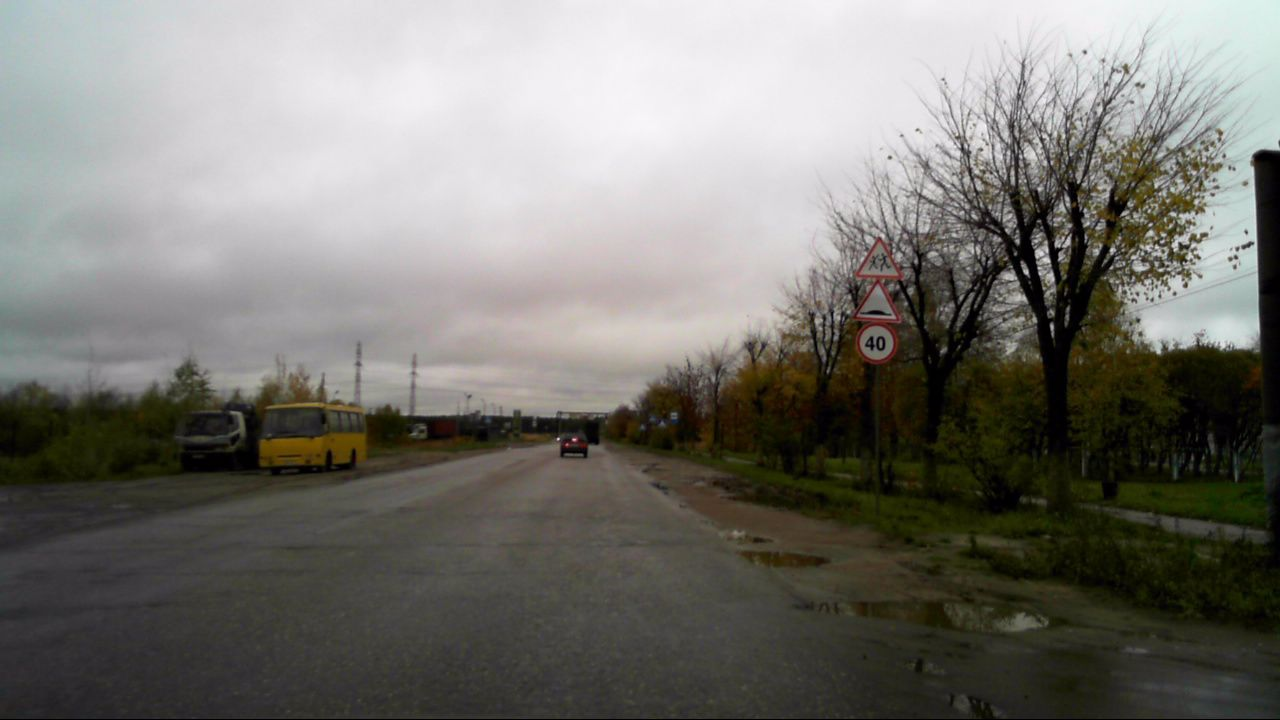speed_warning_40: (854, 322, 898, 364)
